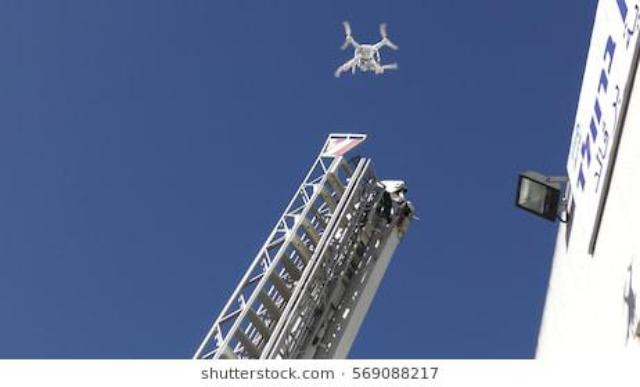drone: (322, 13, 421, 89)
